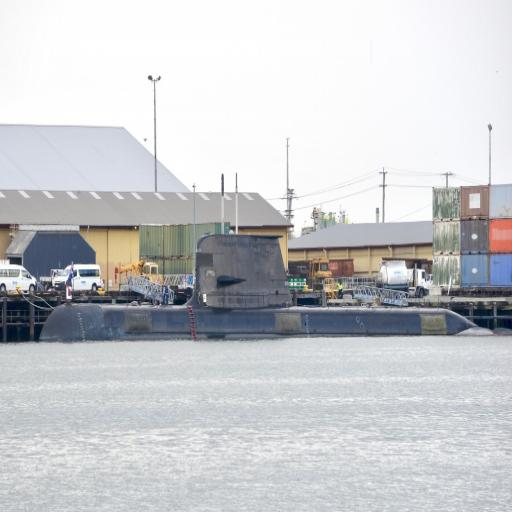submarine: (39, 234, 478, 344)
